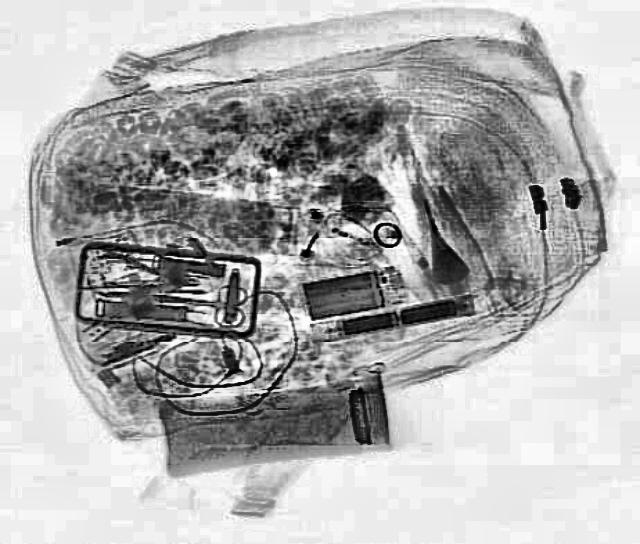Scissors: (162, 278, 250, 326)
